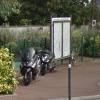Motorcycle: (17, 44, 61, 86)
